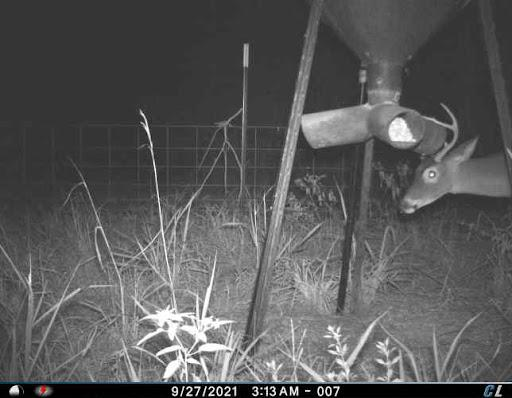Deer: (394, 98, 512, 223)
